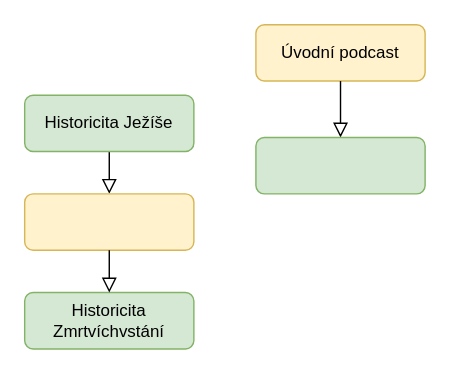
Some shapes in this 450 by 374 pixel diagram are drawn without their labels. Here are the shapes that lost their labels. From the top down, the centre of each, then its label:
At [340,165]: "Jak evangelizovat".
At [108,221]: "Historicita Evangelii".
